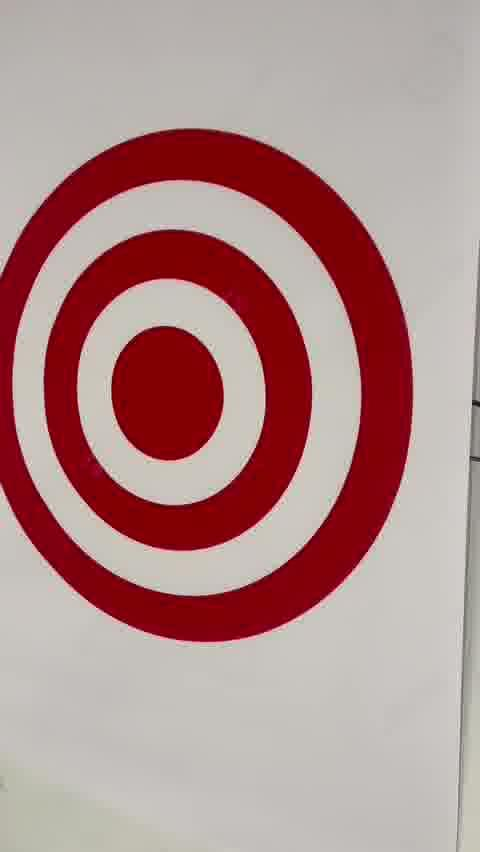target_red: (0, 127, 412, 642)
